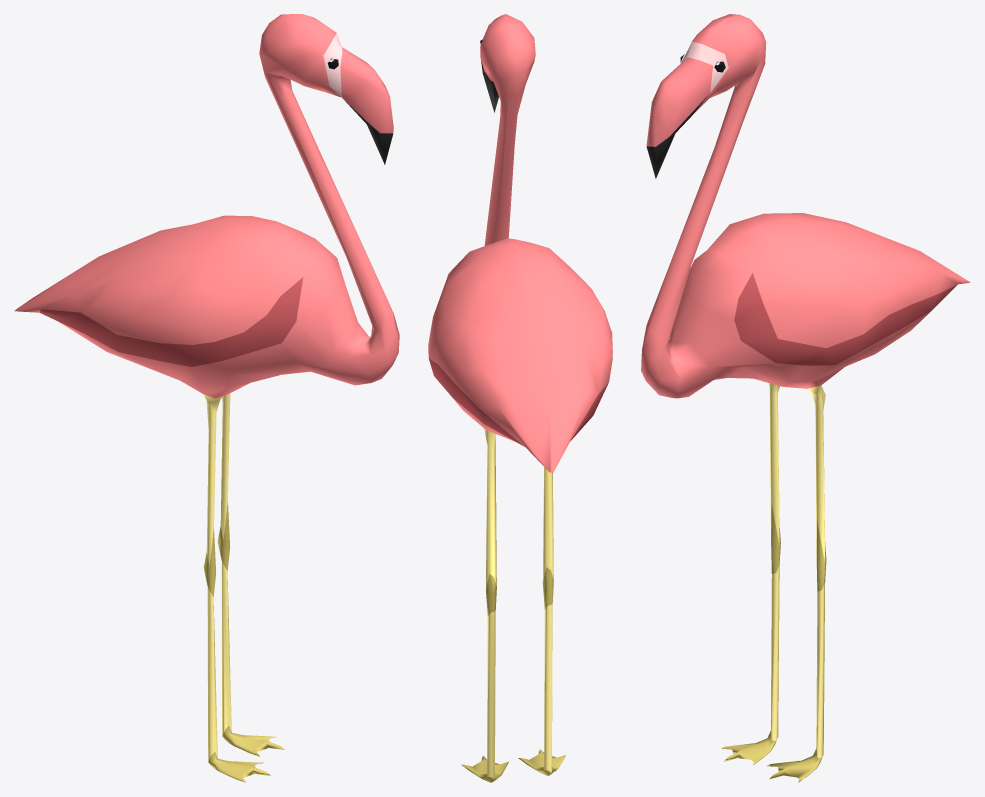
Rendered from Flamingo02.glb.
3 renders of one model, left to right at view 1: azimuth 30°, elevation 25°; view 2: azimuth 150°, elevation 25°; view 3: azimuth 270°, elevation 25°, orthographic. The views are drawn at different scales.
Visible parts, largest first — view 1: Flamingo02; view 2: Flamingo02; view 3: Flamingo02.
Part boxes in pixels (<box>): Flamingo02: <box>14,14,399,782</box>; Flamingo02: <box>428,14,612,782</box>; Flamingo02: <box>641,14,970,782</box>.
Size of what is drawn, in the model's own units: 0.653 by 2.05 by 0.8052.
Materials: 1 (1 with a texture image).
